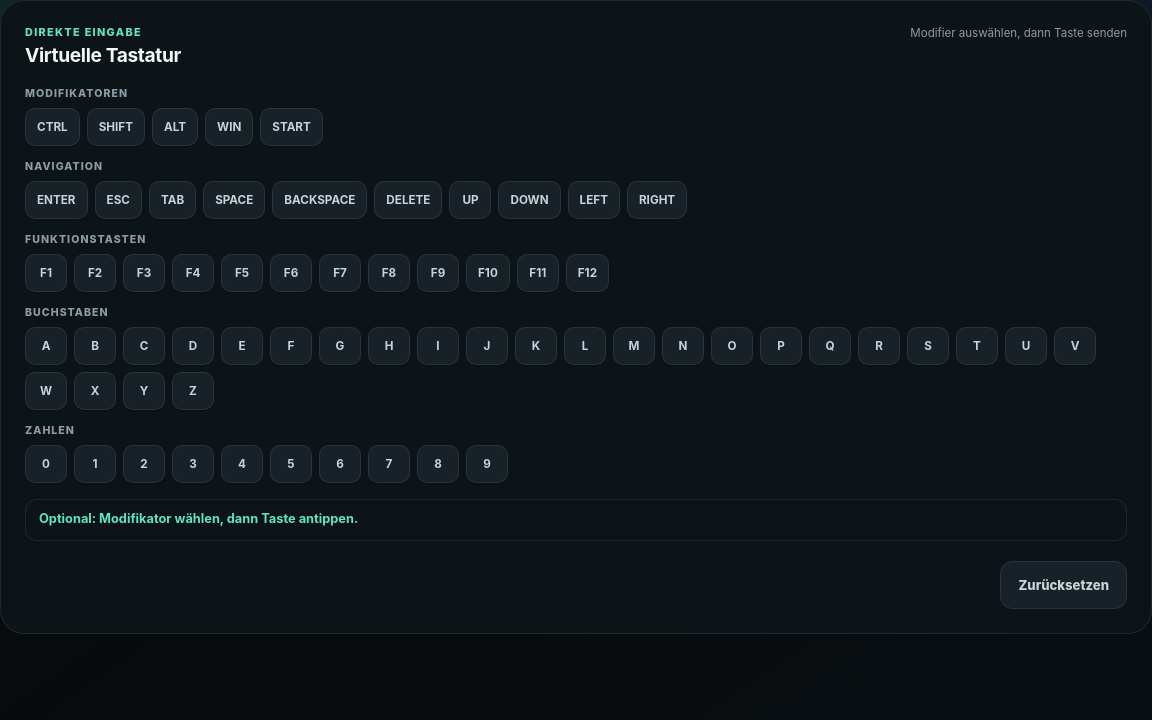
Test: KeyboardPadComponent › disables arming a 4th modifier once three are armed
The image size is (1152, 720).
Step 1. Click the button "CTRL" → {"x": 52, "y": 127}, box [25,108,80,146]
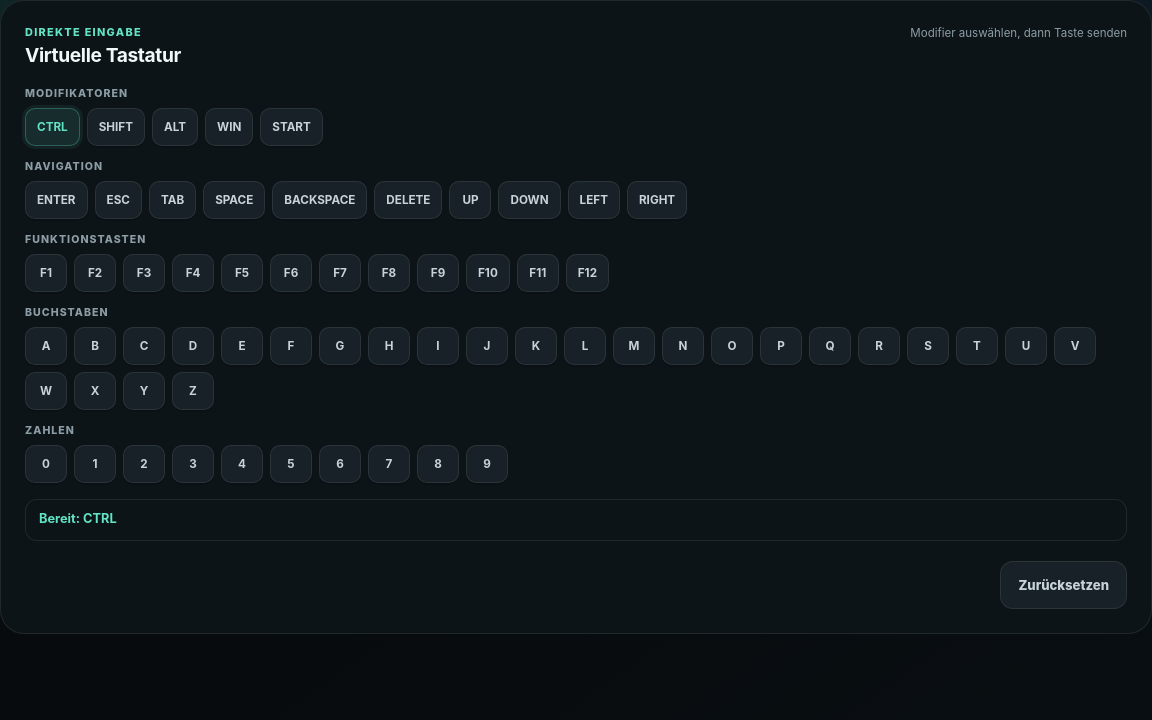
Step 2. Click the button "SHIFT" → {"x": 116, "y": 127}, box [87,108,145,146]
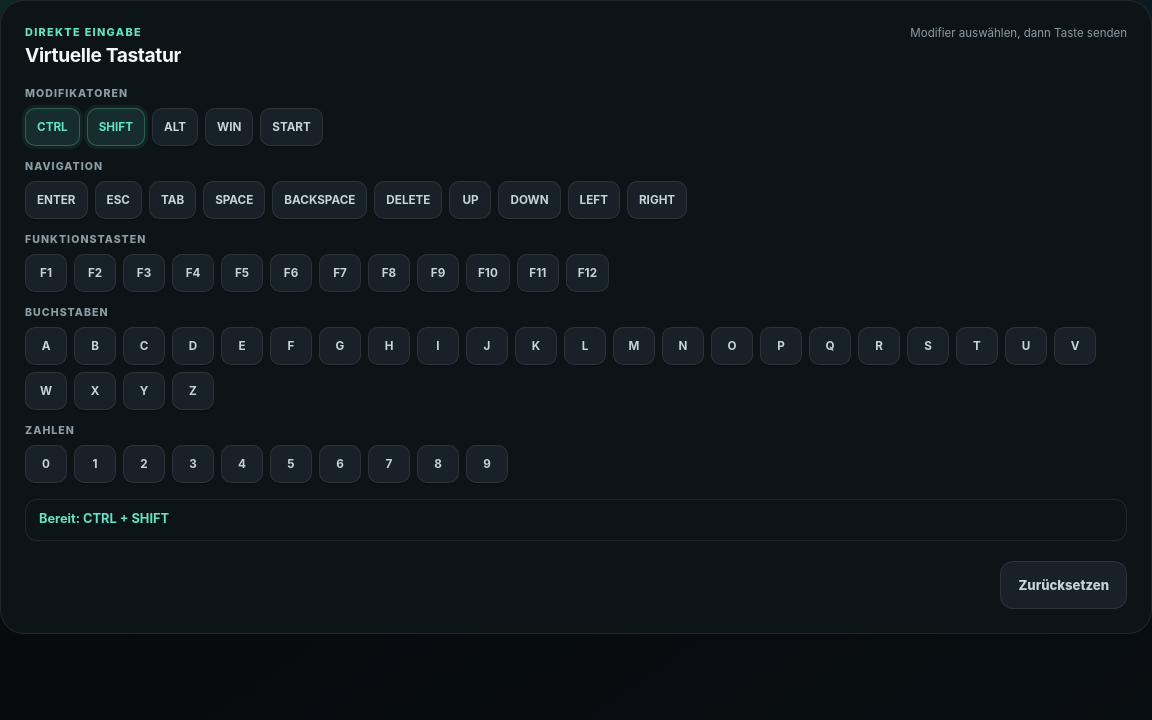
Step 3. Click the button "ALT" → {"x": 175, "y": 127}, box [152,108,198,146]
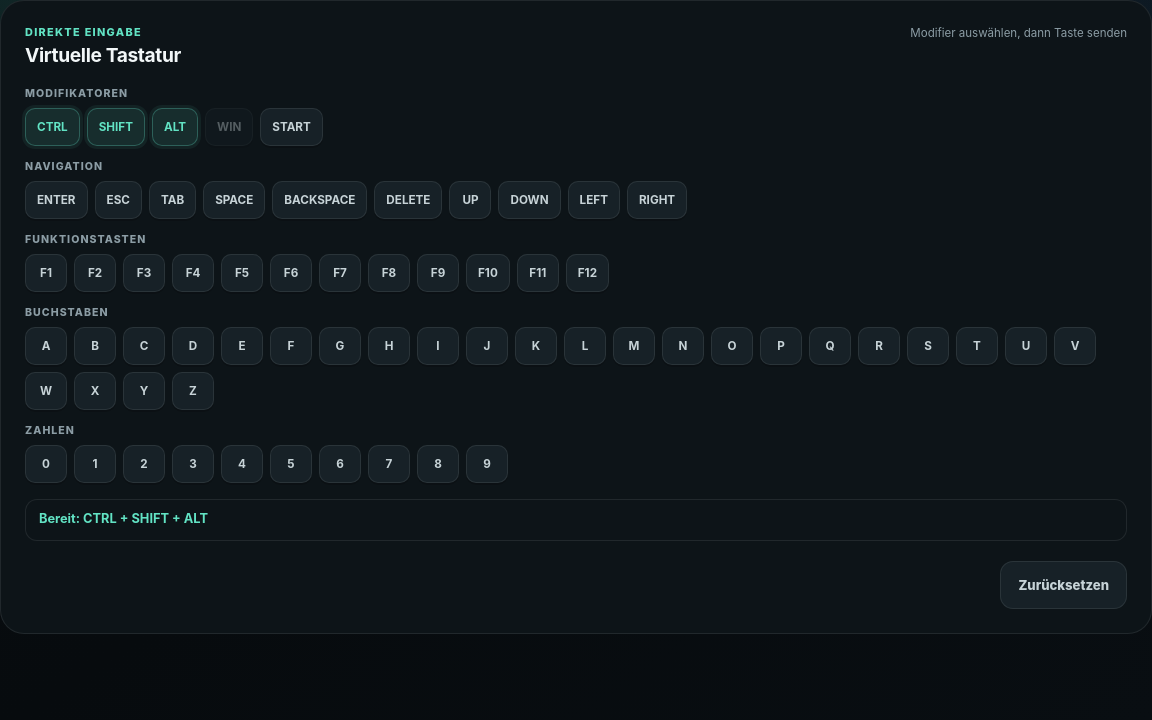
Check: the button "WIN" is disabled, box [205,108,253,146]
